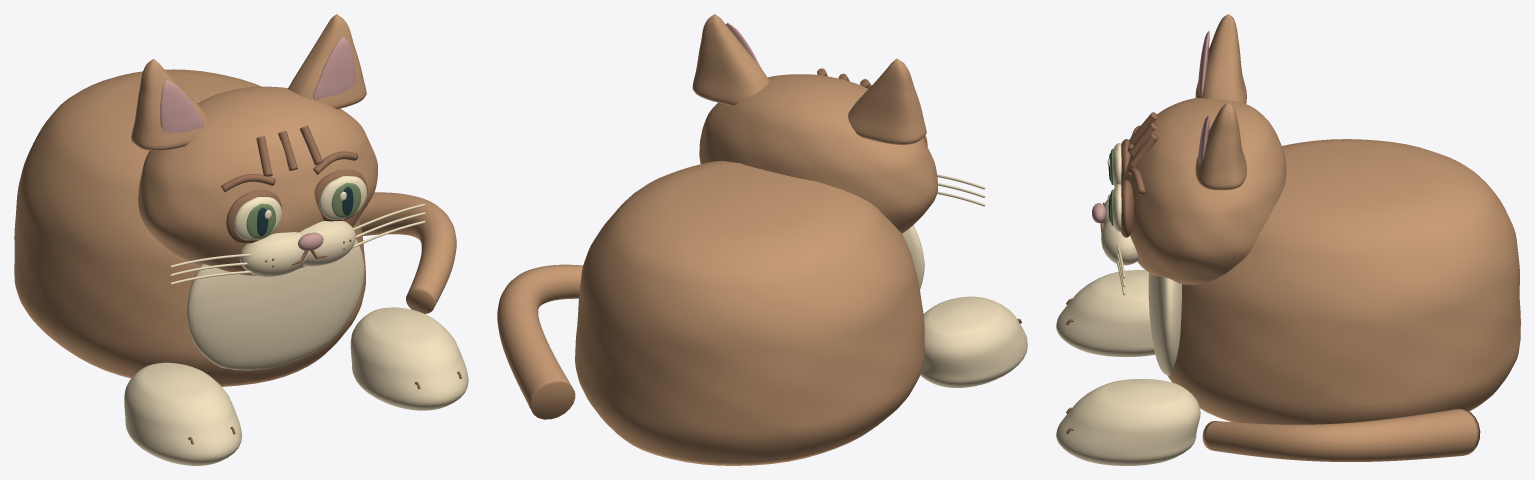
The model's file is mochi_art19.glb.
The picture shows the model from 3 angles, left to right: view 1: azimuth 30°, elevation 25°; view 2: azimuth 150°, elevation 25°; view 3: azimuth 270°, elevation 25°; orthographic projection.
Parts seen in each view (by area): view 1: Static_Mochi ginger, CatHead_Mochi ginger, Static_Mochi muzzle, RightPaw_Mochi muzzle, LeftPaw_Mochi muzzle, CatHead_Mochi muzzle, CatHead_Mochi inner ear, CatHead_Mochi stripe, CatHead_Cream ceramic, CatHead_Iris jade, CatHead_Ink eyes; view 2: Static_Mochi ginger, CatHead_Mochi ginger, LeftPaw_Mochi muzzle, Static_Mochi muzzle; view 3: Static_Mochi ginger, CatHead_Mochi ginger, RightPaw_Mochi muzzle, LeftPaw_Mochi muzzle, Static_Mochi muzzle, CatHead_Mochi stripe, CatHead_Mochi muzzle, CatHead_Mochi inner ear, CatHead_Cream ceramic.
Boxes of the visible parts, x1,y1,x2,y2 form: Static_Mochi ginger: [14, 69, 456, 386]; CatHead_Mochi ginger: [131, 14, 377, 275]; Static_Mochi muzzle: [187, 239, 364, 370]; RightPaw_Mochi muzzle: [350, 307, 468, 410]; LeftPaw_Mochi muzzle: [124, 362, 241, 465]; CatHead_Mochi muzzle: [170, 203, 425, 284]; CatHead_Mochi inner ear: [160, 37, 355, 250]; CatHead_Mochi stripe: [221, 125, 367, 267]; CatHead_Cream ceramic: [234, 176, 366, 240]; CatHead_Iris jade: [246, 182, 361, 238]; CatHead_Ink eyes: [257, 186, 353, 236]; Static_Mochi ginger: [497, 161, 924, 465]; CatHead_Mochi ginger: [692, 14, 937, 233]; LeftPaw_Mochi muzzle: [920, 296, 1027, 387]; Static_Mochi muzzle: [902, 225, 924, 289]; Static_Mochi ginger: [1167, 139, 1520, 461]; CatHead_Mochi ginger: [1123, 14, 1286, 284]; RightPaw_Mochi muzzle: [1056, 379, 1200, 465]; LeftPaw_Mochi muzzle: [1056, 270, 1155, 356]; Static_Mochi muzzle: [1148, 272, 1181, 375]; CatHead_Mochi stripe: [1100, 112, 1158, 248]; CatHead_Mochi muzzle: [1101, 199, 1138, 295]; CatHead_Mochi inner ear: [1092, 30, 1209, 223]; CatHead_Cream ceramic: [1112, 143, 1121, 231].
Size of the model in its own units: 8.99 by 7.3 by 9.01.
